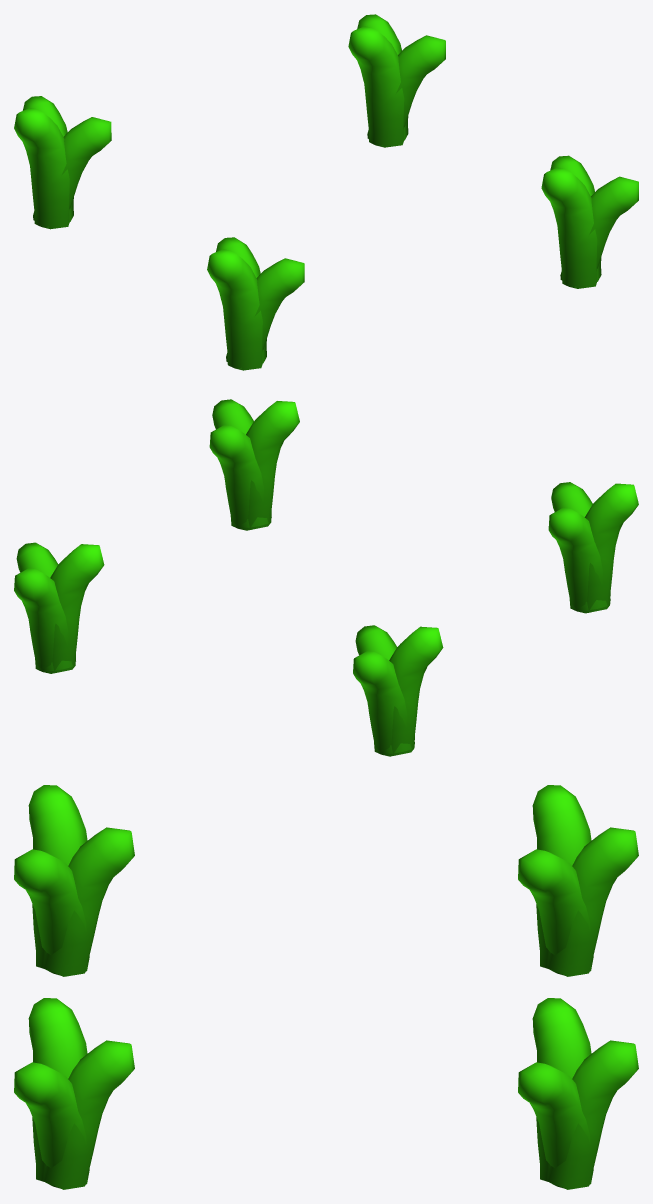
File: Farm_Crop_Garlic_Step_01.fbx
3 renders of one model, top to bottom at view 1: azimuth 30°, elevation 25°; view 2: azimuth 150°, elevation 25°; view 3: azimuth 270°, elevation 25°, orthographic. The views are drawn at different scales.
Visible parts, largest first — view 1: Farm_Crop_Garlic_Step_01; view 2: Farm_Crop_Garlic_Step_01; view 3: Farm_Crop_Garlic_Step_01.
Part boxes in pixels (x1,y1,x2,y2): Farm_Crop_Garlic_Step_01: [14, 14, 638, 370]; Farm_Crop_Garlic_Step_01: [14, 399, 638, 756]; Farm_Crop_Garlic_Step_01: [14, 785, 638, 1189].
Bounding box in the file's own units: 126 × 35.13 × 124.
